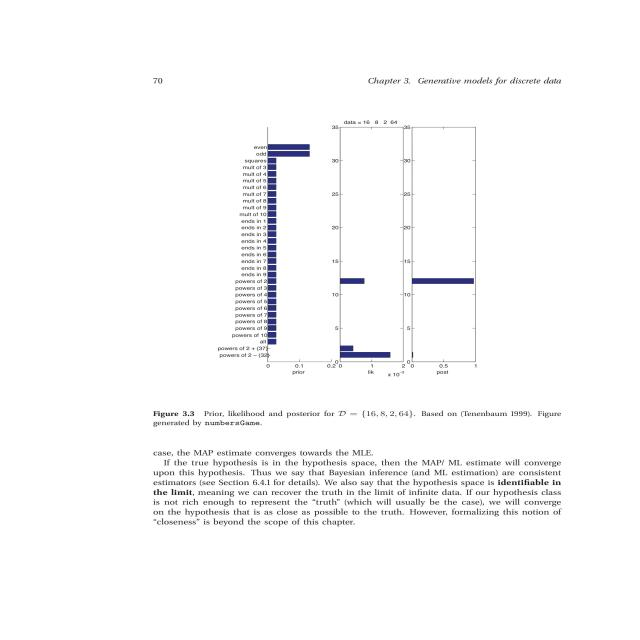diagram: (137, 98, 619, 448)
